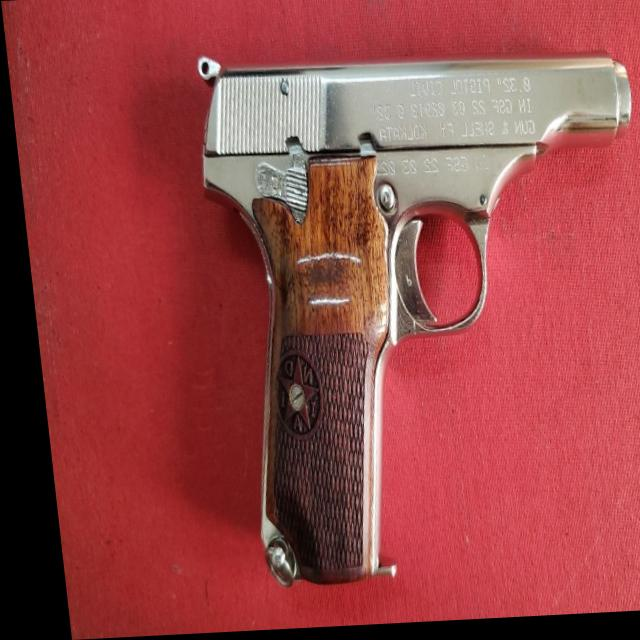handgun: (189, 53, 640, 589)
